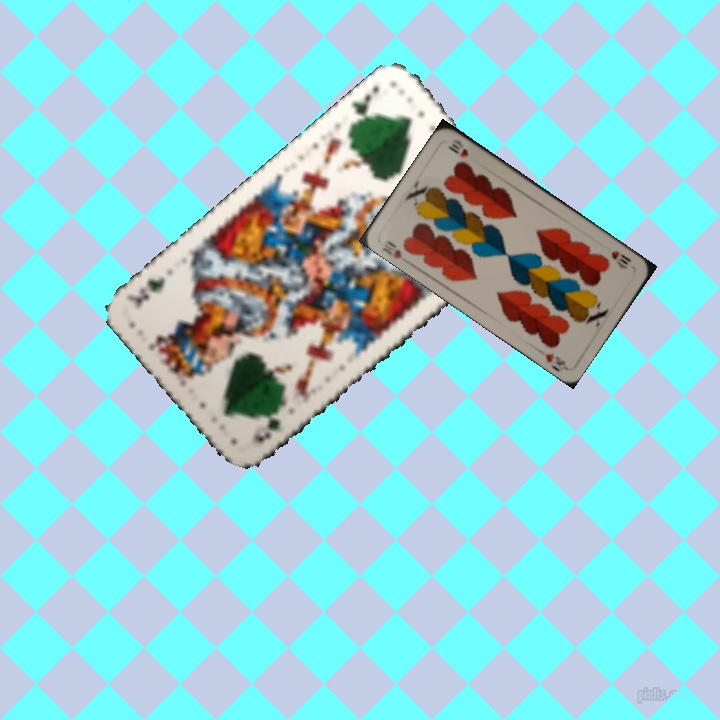GK: (248, 402, 288, 446), (348, 81, 383, 126)
H10: (607, 246, 634, 272), (378, 236, 404, 261)
